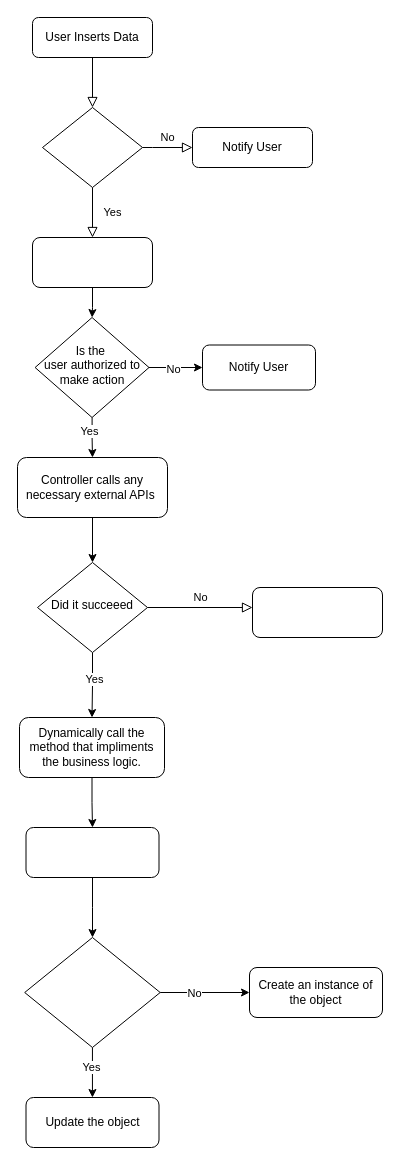
Some shapes in this 400 by 1165 pixel diagram are drawn without their labels. The shapes that lost their labels are listed below. From the top down, each one's box as (x1, y1, x2, y2) in pixels, then its label:
(42, 106, 142, 188): Is it valid
(32, 236, 152, 288): Make make request to API
(252, 586, 382, 638): Throw exception
(25, 826, 159, 878): Apply business logic
(24, 936, 160, 1048): Does the object sent from user contain a valid ID
